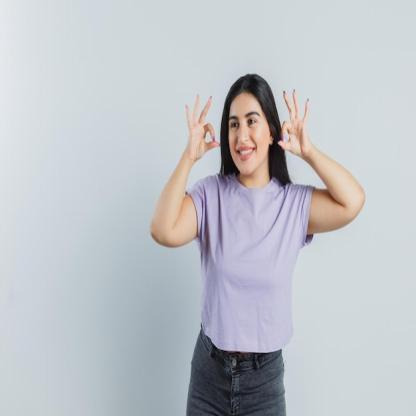ok: (271, 84, 316, 158), (182, 86, 222, 160)
